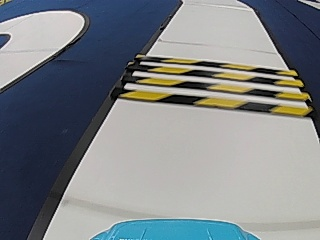bump: (140, 58, 283, 112)
